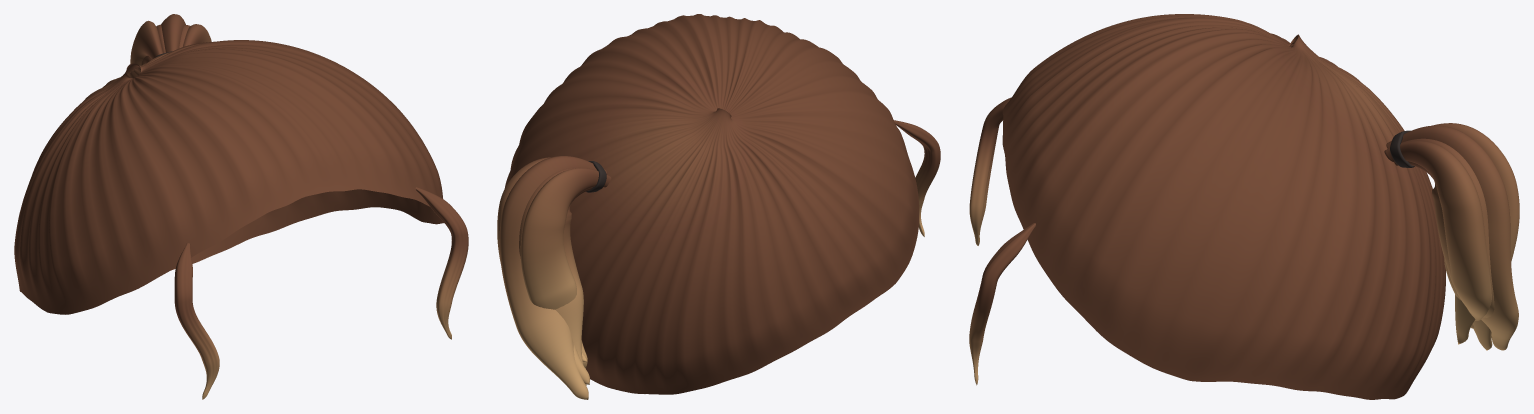
File: ponytail-headband-ombre.glb
3 renders of one model, left to right at view 1: azimuth 30°, elevation 25°; view 2: azimuth 150°, elevation 25°; view 3: azimuth 270°, elevation 25°, orthographic. The views are drawn at different scales.
Parts seen in each view (by area): view 1: Hair / swept roots220, Hair / adjustable front216 1, Hair / adjustable front216 -1, Hair / rounded tail220 0, Hair / rounded tail220 2, Hair / rounded tail220 4; view 2: Hair / swept roots220, Hair / rounded tail220 2, Hair / rounded tail220 0, Hair / rounded tail220 1, Hair / adjustable front216 -1, Hair / rounded tail220 4; view 3: Hair / swept roots220, Hair / rounded tail220 4, Hair / rounded tail220 2, Hair / adjustable front216 1, Hair / rounded tail220 0, Hair / adjustable front216 -1, Hair / rounded tail220 3, Hair / rounded tail220 1.
Boxes of the visible parts, x1=… form: Hair / swept roots220: x1=14, y1=40, x2=443, y2=314; Hair / adjustable front216 1: x1=415, y1=187, x2=468, y2=339; Hair / adjustable front216 -1: x1=174, y1=243, x2=219, y2=399; Hair / rounded tail220 0: x1=130, y1=20, x2=162, y2=65; Hair / rounded tail220 2: x1=161, y1=14, x2=185, y2=52; Hair / rounded tail220 4: x1=183, y1=24, x2=211, y2=46; Hair / swept roots220: x1=504, y1=14, x2=919, y2=394; Hair / rounded tail220 2: x1=499, y1=156, x2=607, y2=399; Hair / rounded tail220 0: x1=520, y1=168, x2=611, y2=368; Hair / rounded tail220 1: x1=519, y1=167, x2=602, y2=385; Hair / adjustable front216 -1: x1=893, y1=120, x2=940, y2=236; Hair / rounded tail220 4: x1=497, y1=157, x2=587, y2=362; Hair / swept roots220: x1=1002, y1=14, x2=1445, y2=399; Hair / rounded tail220 4: x1=1384, y1=141, x2=1491, y2=328; Hair / rounded tail220 2: x1=1386, y1=125, x2=1518, y2=350; Hair / adjustable front216 1: x1=969, y1=223, x2=1035, y2=385; Hair / rounded tail220 0: x1=1432, y1=123, x2=1519, y2=344; Hair / adjustable front216 -1: x1=969, y1=97, x2=1011, y2=245; Hair / rounded tail220 3: x1=1388, y1=138, x2=1494, y2=338; Hair / rounded tail220 1: x1=1444, y1=155, x2=1495, y2=350.
Bounding box in the file's own units: 0.7726 × 0.5798 × 0.8505.
Materials: 9 (8 with a texture image).
